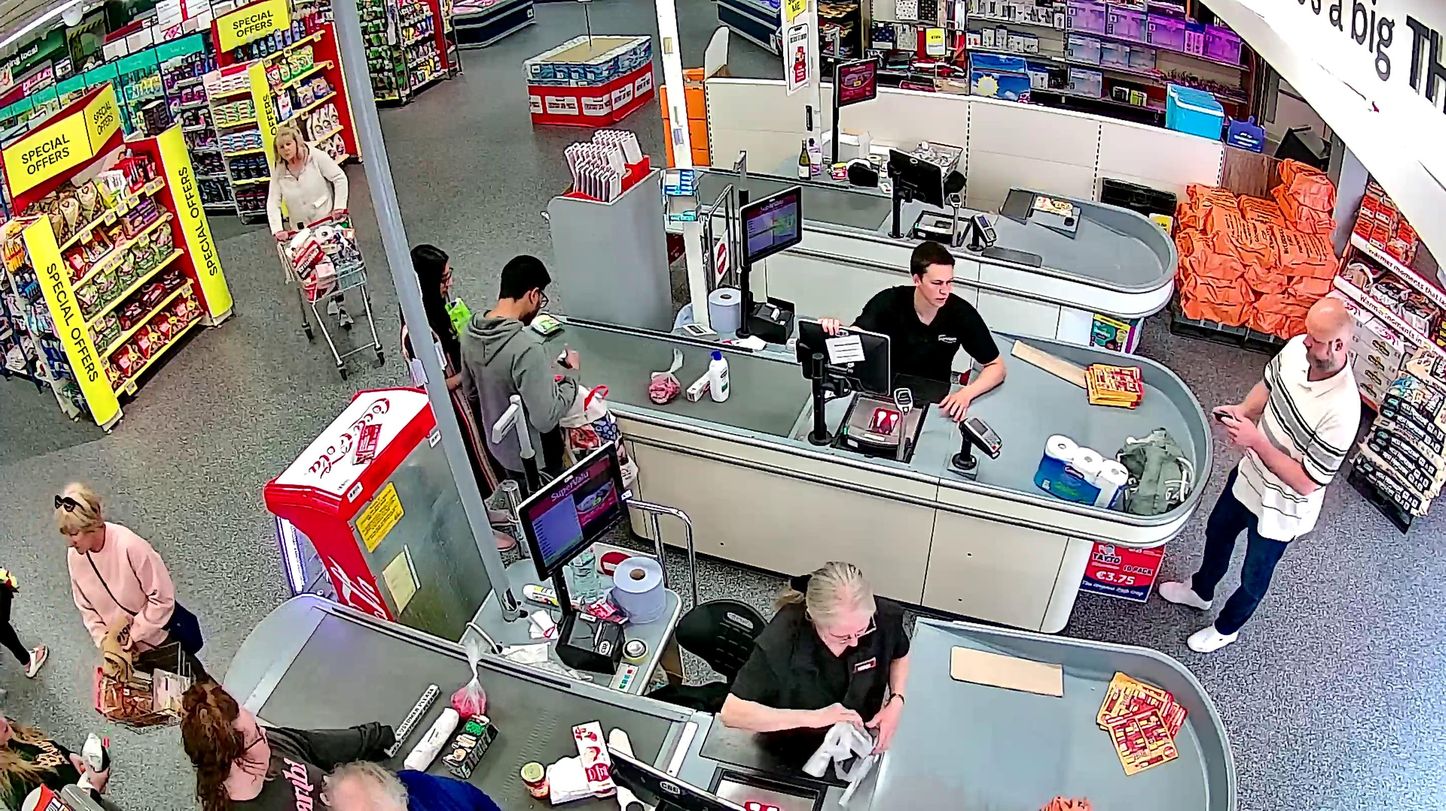backpack-or-handbag: (159, 597, 204, 654)
filled-basket: (93, 640, 196, 735)
filled-trolly: (276, 208, 385, 380)
occupied-checkout-counter: (513, 439, 929, 811), (731, 181, 1005, 485)
person: (53, 482, 218, 703), (268, 124, 353, 325)
person-with-basket-trolly-and-backpack-handbag: (53, 481, 218, 736)
person-with-filled-basket-trolly: (268, 124, 385, 379)
vacant-checkout-counter: (828, 49, 1011, 250)
